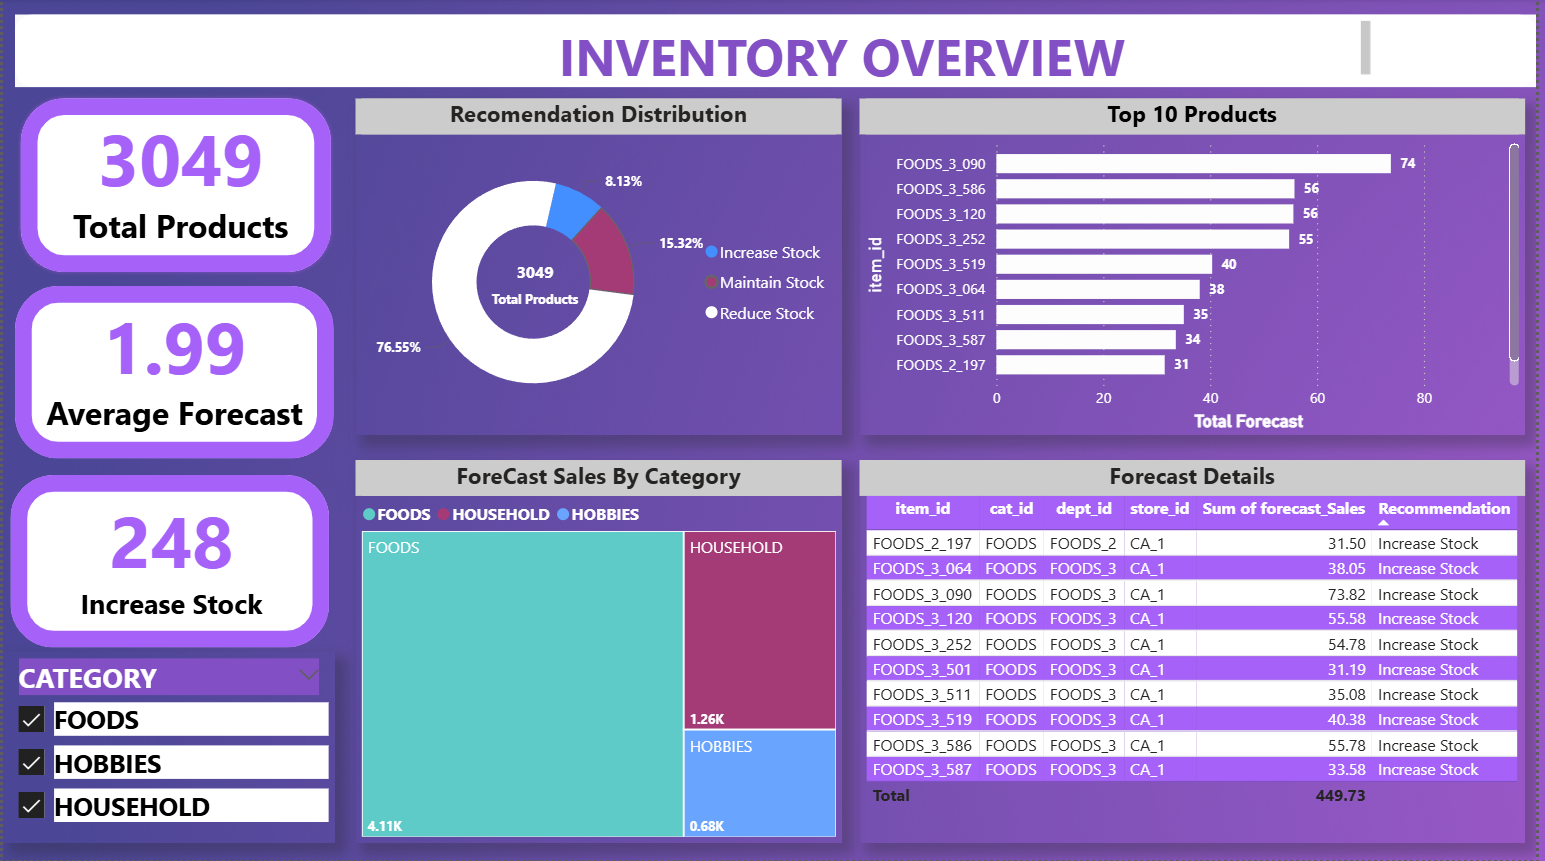

This screenshot's page, from the dashboard's own definition file:
{"tool":"powerbi","page":{"name":"Inventory overview","canvas":[1280,720],"ordinal":0},"visuals":[{"type":"shape","box":[9.6,13.7,1270.8,60.4],"z":0},{"type":"shape","box":[9.6,240.2,266.2,144.1],"z":1000},{"type":"textbox","box":[142.7,13.7,1004.5,60.4],"z":2000},{"type":"card","fields":{"Values":["dashboard_data.Average Forecast"]},"box":[20.6,240.2,245.6,129],"z":3000},{"type":"donutChart","title":"Recomendation Distribution","fields":{"Y":["dashboard_data.Increase Stock","dashboard_data.Maintain Stock","dashboard_data.Reduce Stock"]},"box":[295.1,83.7,406.2,281.3],"z":4000},{"type":"card","fields":{"Values":["dashboard_data.Total Products"]},"box":[402.1,211.3,83.7,52.1],"z":5000},{"type":"treemap","title":"ForeCast Sales By Category","fields":{"Group":["dashboard_data.cat_id"],"Values":["dashboard_data.Total Forecast"]},"box":[295.1,385.6,406.2,319.8],"z":6000},{"type":"clusteredBarChart","title":"Top 10 Products","fields":{"Y":["dashboard_data.Total Forecast"],"Category":["dashboard_data.item_id"]},"box":[715,83.7,555.8,281.3],"z":7000},{"type":"tableEx","title":"Forecast Details","fields":{"Values":["dashboard_data.item_id","dashboard_data.cat_id","dashboard_data.dept_id","dashboard_data.store_id","Sum(dashboard_data.forecast_sales)","dashboard_data.Recommendation"]},"box":[715,385.6,555.8,319.8],"z":8000},{"type":"shape","box":[11,79.6,266.2,152.3],"z":9000},{"type":"card","fields":{"Values":["dashboard_data.Total Products"]},"box":[30.2,83.7,236,129],"z":10000},{"type":"shape","box":[6.9,398,266.2,144.1],"z":11000},{"type":"card","fields":{"Values":["dashboard_data.Increase Stock"]},"box":[17.8,399.3,245.6,130.4],"z":12000},{"type":"slicer","fields":{"Values":["dashboard_data.cat_id"]},"box":[0,546.2,277.2,159.2],"z":13000}]}

Visuals, with their boxes in screenshot pixels (x1, y1, x2, y2), scaled from the page's 1280x720 canvas onto the 1545x861 screenshot:
shape: (x1=12, y1=16, x2=1544, y2=89)
shape: (x1=12, y1=287, x2=333, y2=460)
textbox: (x1=172, y1=16, x2=1385, y2=89)
card - dashboard_data.Average Forecast: (x1=25, y1=287, x2=321, y2=442)
"Recomendation Distribution" donutChart: (x1=356, y1=100, x2=846, y2=436)
card - dashboard_data.Total Products: (x1=485, y1=253, x2=586, y2=315)
"ForeCast Sales By Category" treemap: (x1=356, y1=461, x2=846, y2=844)
"Top 10 Products" clusteredBarChart: (x1=863, y1=100, x2=1534, y2=436)
"Forecast Details" tableEx: (x1=863, y1=461, x2=1534, y2=844)
shape: (x1=13, y1=95, x2=335, y2=277)
card - dashboard_data.Total Products: (x1=36, y1=100, x2=321, y2=254)
shape: (x1=8, y1=476, x2=330, y2=648)
card - dashboard_data.Increase Stock: (x1=21, y1=477, x2=318, y2=633)
slicer - dashboard_data.cat_id: (x1=0, y1=653, x2=335, y2=844)
